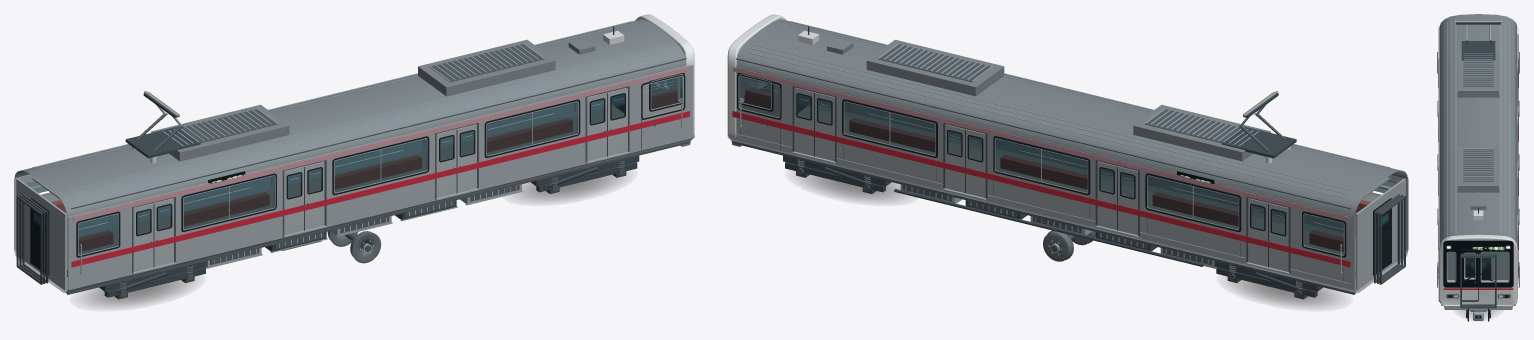
The model's file is toyoko.glb.
3 views of the same model, side by side, from view 1: azimuth 30°, elevation 25°; view 2: azimuth 150°, elevation 25°; view 3: azimuth 270°, elevation 25° (orthographic). The views are drawn at different scales.
Visible parts, largest first — view 1: body__ROOF, body__STAINLESS.001, body__STAINLESS, body__GLASS.001, body__GLASS, body__DOOR_STEEL, body__TRIM, body__ALUMINIUM.001, body__ALUMINIUM, body__INTERIOR, body__TRIM.001, body__LIVERY_0.001 (+17 smaller); view 2: body__ROOF, body__STAINLESS, body__GLASS.001, body__GLASS, body__STAINLESS.001, body__DOOR_STEEL, body__TRIM, body__ALUMINIUM, body__ALUMINIUM.001, body__INTERIOR, body__TRIM.001, body__LIVERY_0.001 (+17 smaller); view 3: body__ROOF, cab-shell__CAB_PAINT, body__ALUMINIUM.001, body__TRIM, body__ALUMINIUM, body__CAB_MASK, roof-housing__ROOF, roof-housing__ROOF.001, body__CAB_GLASS, body__TRIM.001, body__STAINLESS.001, body__MACHINERY.002 (+13 smaller).
Part boxes in pixels (bbox=[...]): body__ROOF: bbox=[22, 19, 685, 217]; body__STAINLESS.001: bbox=[14, 65, 693, 292]; body__STAINLESS: bbox=[14, 65, 693, 292]; body__GLASS.001: bbox=[26, 76, 682, 254]; body__GLASS: bbox=[26, 77, 682, 254]; body__DOOR_STEEL: bbox=[84, 87, 627, 271]; body__TRIM: bbox=[17, 44, 689, 296]; body__ALUMINIUM.001: bbox=[35, 21, 683, 274]; body__ALUMINIUM: bbox=[32, 21, 683, 273]; body__INTERIOR: bbox=[32, 103, 624, 272]; body__TRIM.001: bbox=[18, 58, 686, 294]; body__LIVERY_0.001: bbox=[71, 111, 689, 267]; body__ROOF: bbox=[736, 19, 1400, 217]; body__STAINLESS: bbox=[729, 66, 1408, 292]; body__GLASS.001: bbox=[739, 76, 1395, 254]; body__GLASS: bbox=[740, 76, 1396, 254]; body__STAINLESS.001: bbox=[730, 72, 1408, 292]; body__DOOR_STEEL: bbox=[794, 88, 1339, 271]; body__TRIM: bbox=[732, 44, 1404, 296]; body__ALUMINIUM: bbox=[733, 21, 1396, 283]; body__ALUMINIUM.001: bbox=[733, 21, 1386, 284]; body__INTERIOR: bbox=[798, 103, 1389, 271]; body__TRIM.001: bbox=[735, 58, 1404, 294]; body__LIVERY_0.001: bbox=[732, 111, 1350, 267]; body__ROOF: bbox=[1439, 14, 1516, 243]; cab-shell__CAB_PAINT: bbox=[1439, 234, 1517, 306]; body__ALUMINIUM.001: bbox=[1437, 20, 1519, 287]; body__TRIM: bbox=[1438, 60, 1518, 319]; body__ALUMINIUM: bbox=[1437, 22, 1519, 299]; body__CAB_MASK: bbox=[1443, 240, 1513, 287]; roof-housing__ROOF: bbox=[1457, 52, 1499, 192]; roof-housing__ROOF.001: bbox=[1457, 52, 1499, 192]; body__CAB_GLASS: bbox=[1446, 252, 1509, 282]; body__TRIM.001: bbox=[1440, 23, 1518, 308]; body__STAINLESS.001: bbox=[1438, 27, 1517, 279]; body__MACHINERY.002: bbox=[1456, 22, 1500, 60].
Size of the model in its own units: 20.54 by 5.93 by 3.1.
Materials: 21 (6 with a texture image).
